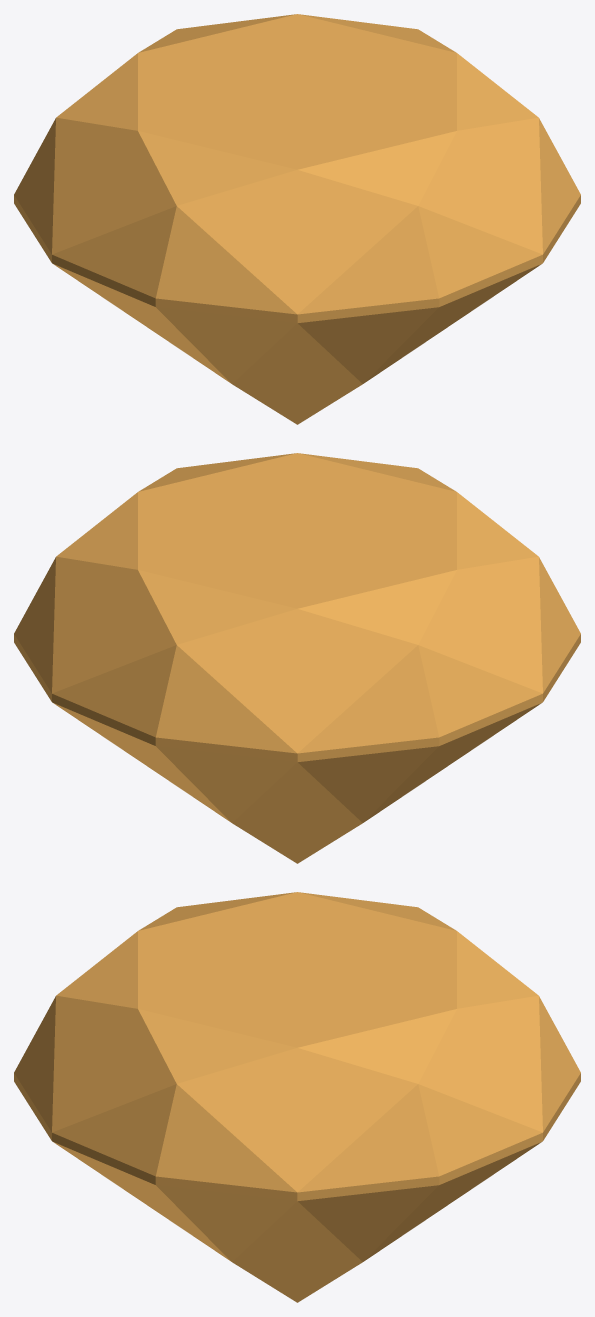
The model's file is DiamondBrilliant_02.fbx.
The picture shows the model from 3 angles, top to bottom: view 1: azimuth 30°, elevation 25°; view 2: azimuth 150°, elevation 25°; view 3: azimuth 270°, elevation 25°; orthographic projection.
Visible parts, largest first — view 1: DiamondBrilliant_02; view 2: DiamondBrilliant_02; view 3: DiamondBrilliant_02.
Part boxes in pixels (x1,y1,x2,y2): DiamondBrilliant_02: (14,14,580,424); DiamondBrilliant_02: (14,453,580,863); DiamondBrilliant_02: (14,892,580,1302).
Bounding box in the file's own units: 374 × 242 × 374.
